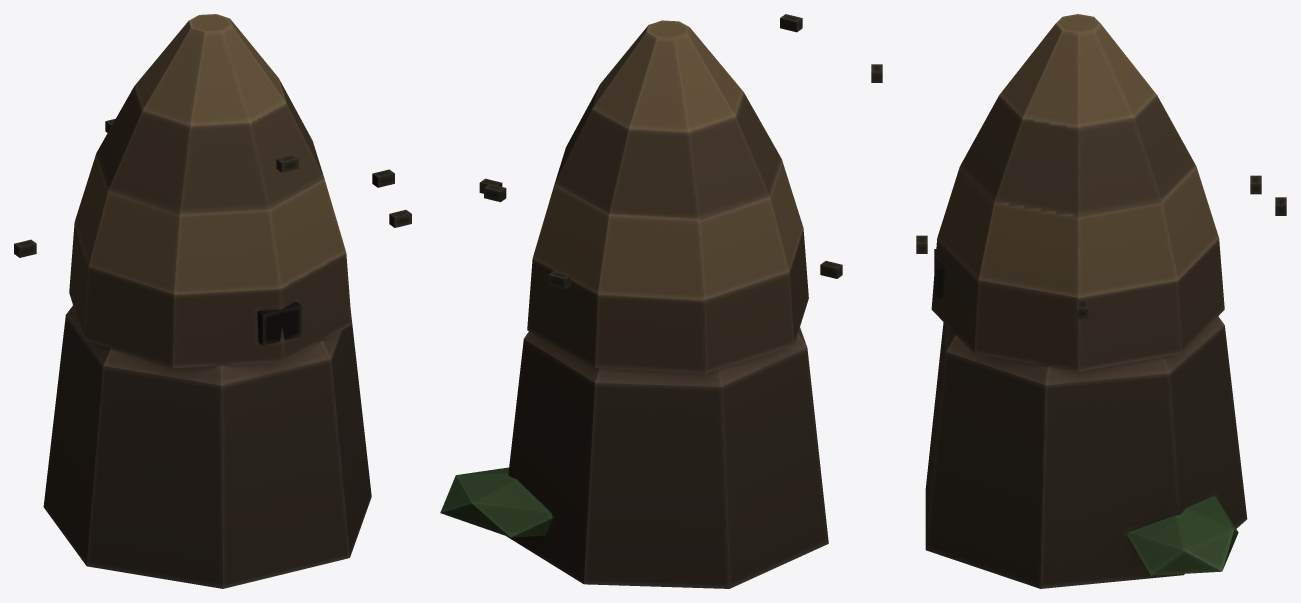
File: obj_hive.glb
3 views of the same model, side by side, from view 1: azimuth 30°, elevation 25°; view 2: azimuth 150°, elevation 25°; view 3: azimuth 270°, elevation 25° (orthographic).
Parts seen in each view (by area): view 1: obj_hive; view 2: obj_hive; view 3: obj_hive.
Part boxes in pixels (x1,y1,x2,y2): obj_hive: (14, 14, 411, 588); obj_hive: (440, 14, 842, 588); obj_hive: (871, 14, 1286, 588).
Size of the model in its own units: 0.753 by 0.97 by 0.7365.
1 material, 1 textured.
